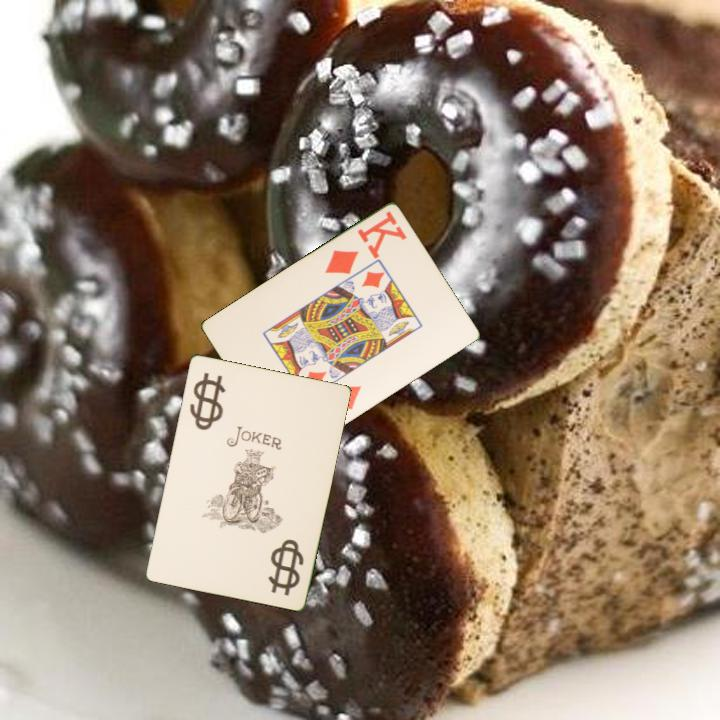JK: (267, 535, 307, 598), (193, 379, 219, 429)
Kd: (321, 207, 409, 278)
